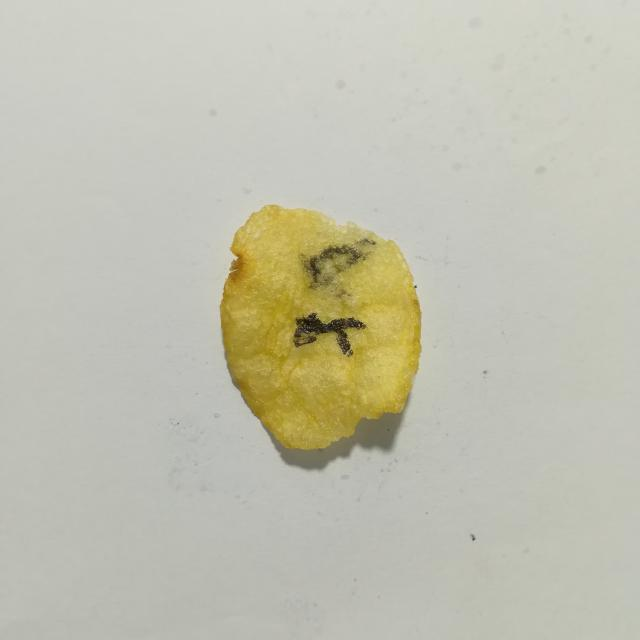chip: (220, 205, 421, 449)
damaged: (294, 313, 366, 356)
semi-damaged: (301, 238, 376, 298)
